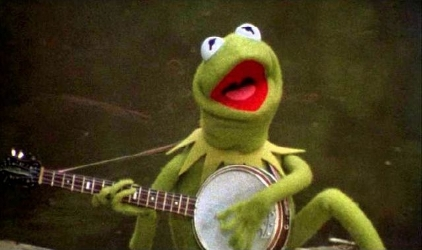kermit: (191, 19, 287, 156)
